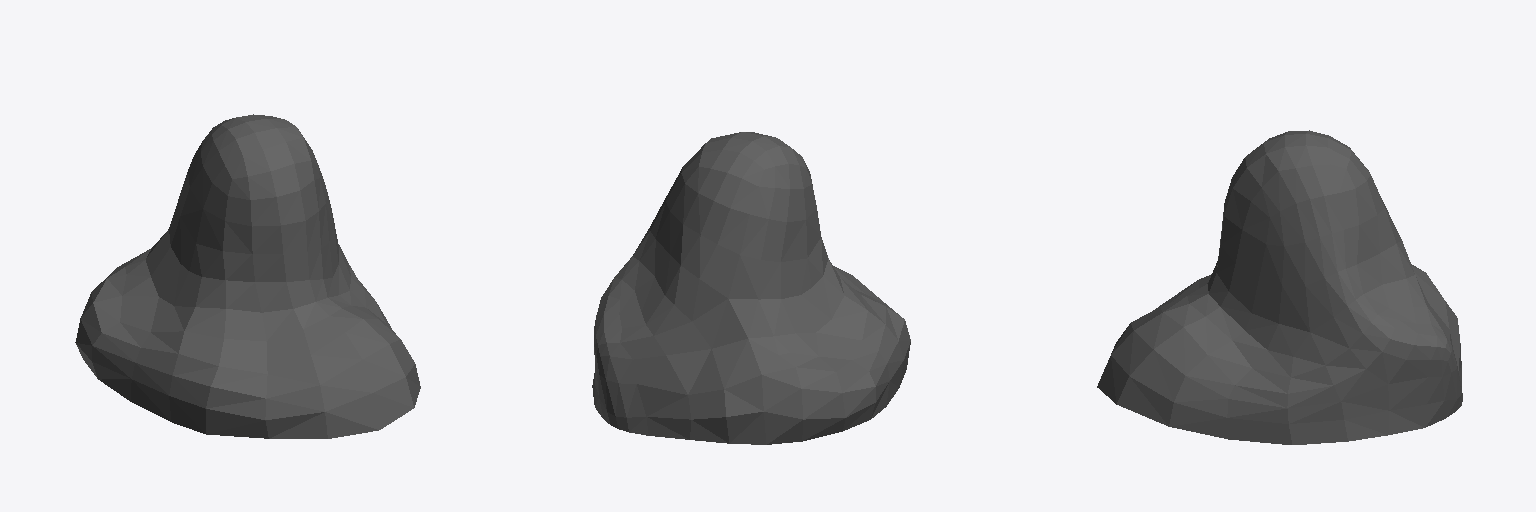
Rendered from stone5.obj.
3 renders of one model, left to right at view 1: azimuth 30°, elevation 25°; view 2: azimuth 150°, elevation 25°; view 3: azimuth 270°, elevation 25°, orthographic.
Parts seen in each view (by area): view 1: stone5_Group1.004; view 2: stone5_Group1.004; view 3: stone5_Group1.004.
Boxes of the visible parts, x1=… form: stone5_Group1.004: x1=75, y1=114, x2=420, y2=438; stone5_Group1.004: x1=592, y1=132, x2=910, y2=444; stone5_Group1.004: x1=1097, y1=130, x2=1462, y2=444.
Size of the model in its own units: 2.42 by 2.1 by 2.82.